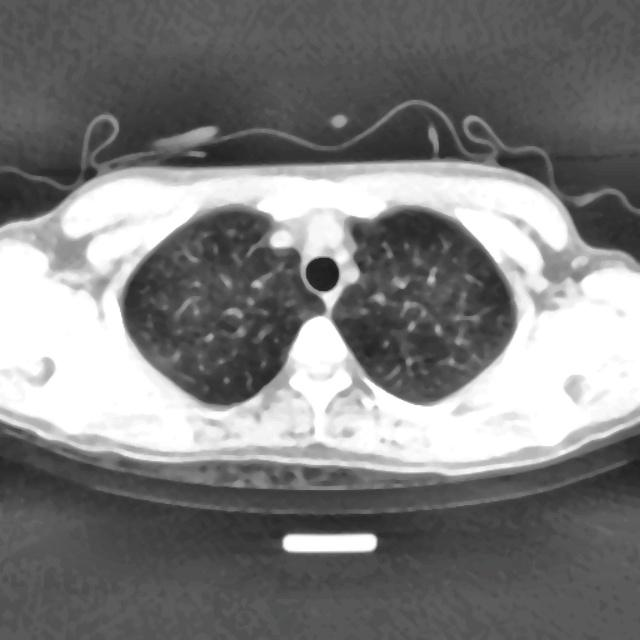covid: (0, 104, 639, 513)
